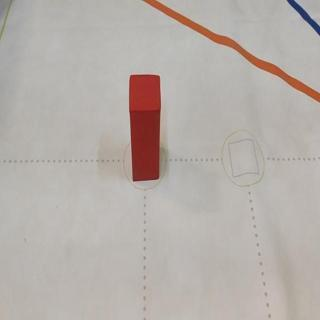redbox: (129, 73, 160, 182)
